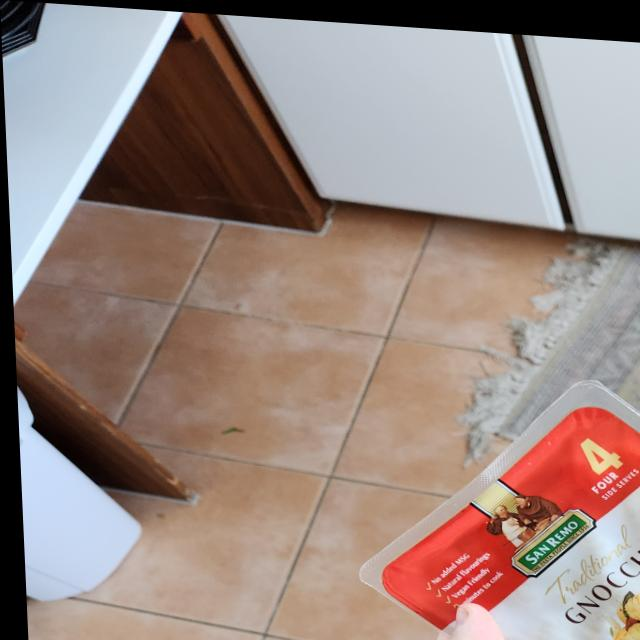gnocchi: (346, 357, 640, 640)
